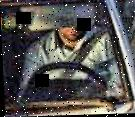seatbelt: (66, 26, 102, 77)
